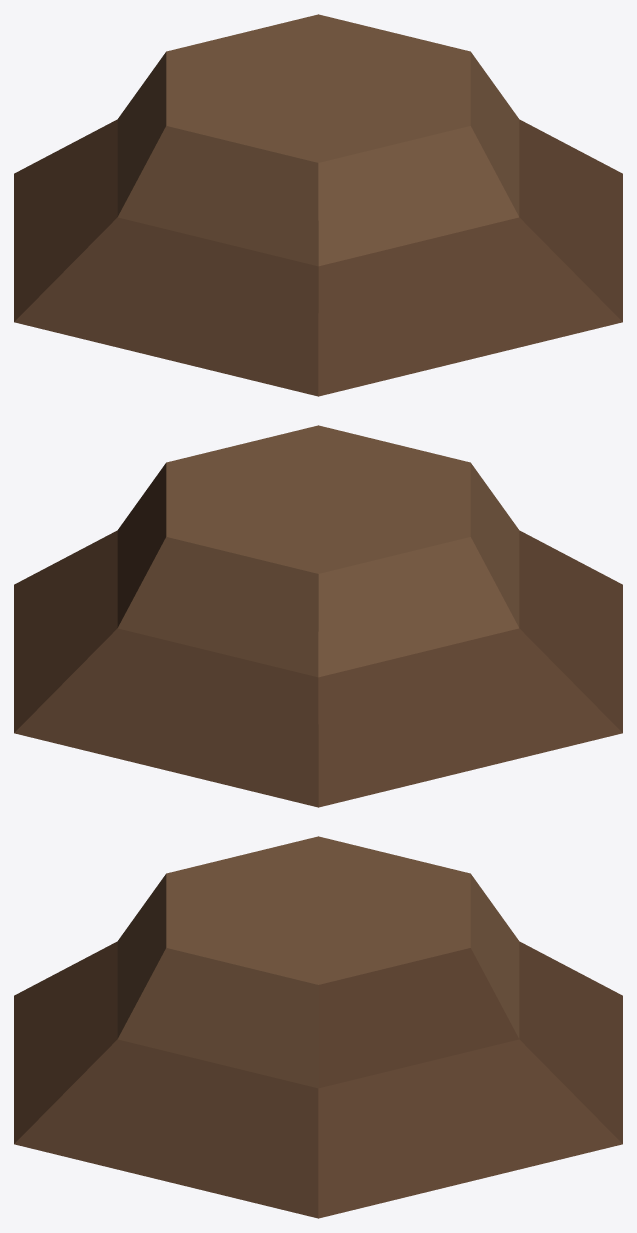
The model's file is dat.glb.
3 renders of one model, top to bottom at view 1: azimuth 30°, elevation 25°; view 2: azimuth 150°, elevation 25°; view 3: azimuth 270°, elevation 25°, orthographic.
Parts seen in each view (by area): view 1: crops_dirtSingle; view 2: crops_dirtSingle; view 3: crops_dirtSingle.
Part boxes in pixels (x1,y1,x2,y2): crops_dirtSingle: [14, 14, 622, 396]; crops_dirtSingle: [14, 425, 622, 807]; crops_dirtSingle: [14, 836, 622, 1218].
Bounding box in the file's own units: 0.4 × 0.1 × 0.3464.
